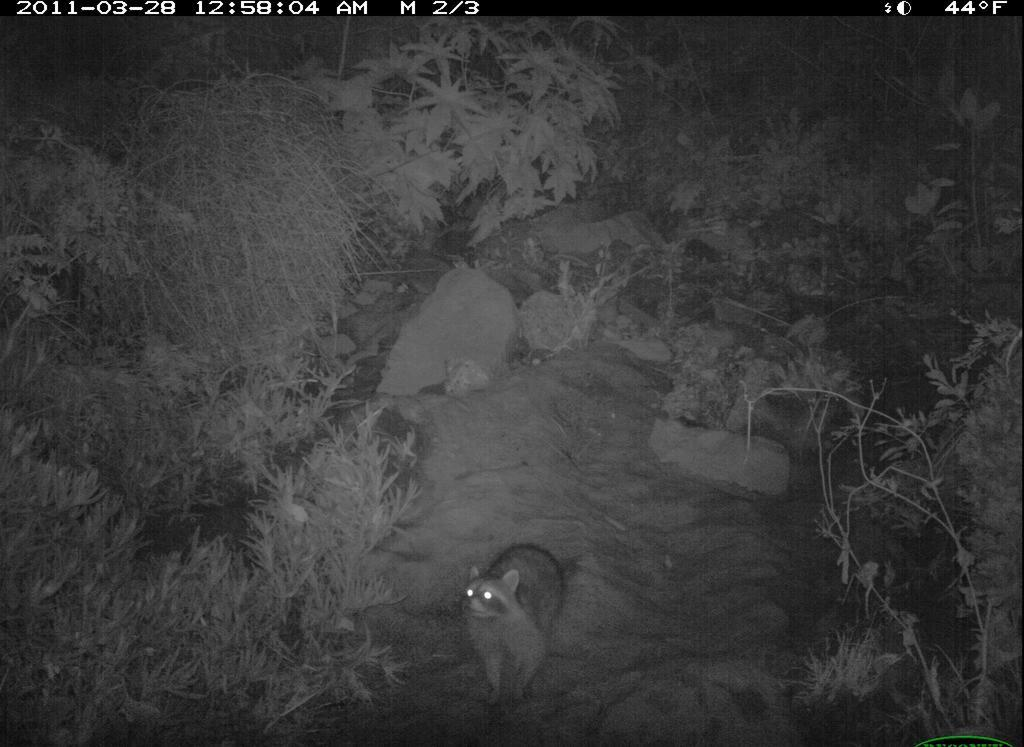raccoon: (450, 542, 579, 720)
